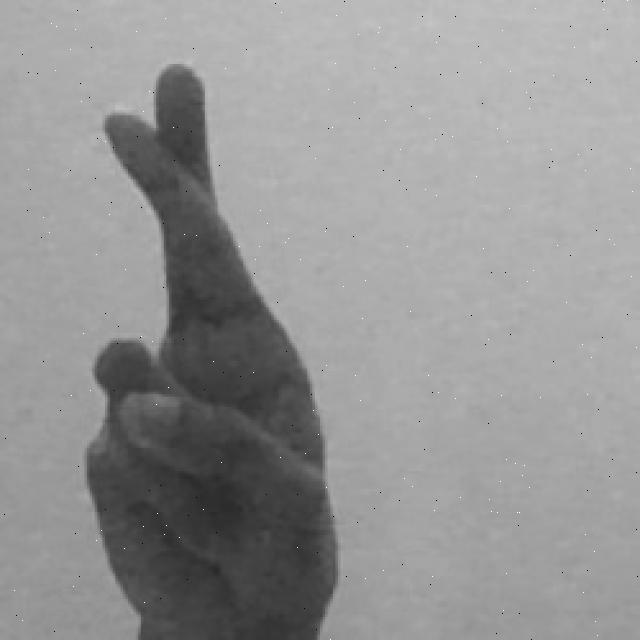R: (78, 58, 344, 640)
